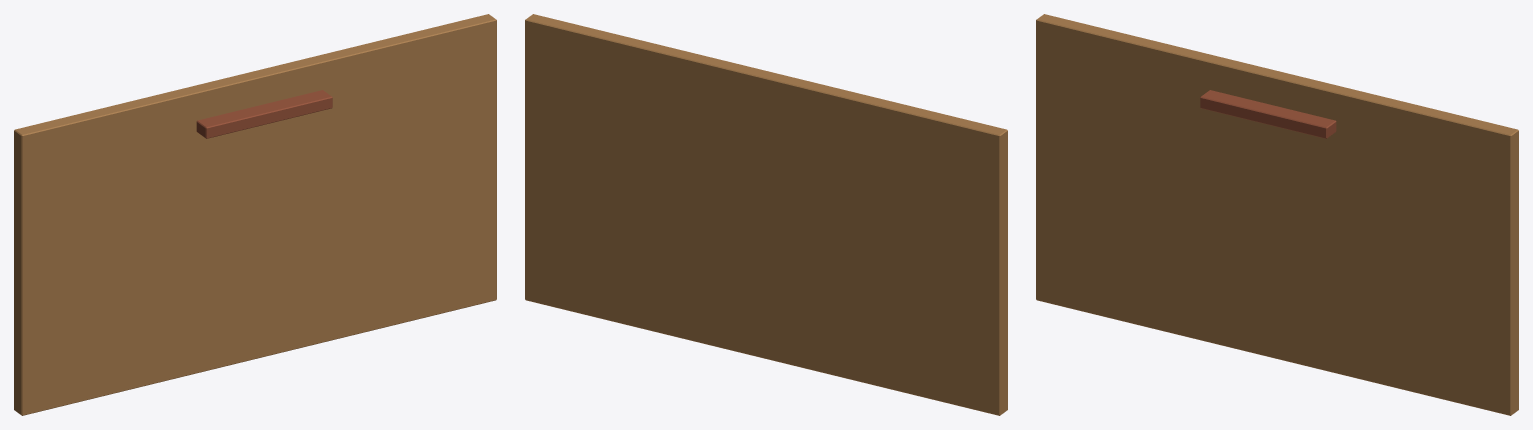
The model's file is media_bench_dropdown_flaps_right_flap.glb.
The picture shows the model from 3 angles, left to right: view 1: azimuth 30°, elevation 25°; view 2: azimuth 150°, elevation 25°; view 3: azimuth 330°, elevation 25°; orthographic projection.
Parts seen in each view (by area): view 1: media_bench_dropdown_flaps_right_flap.001; view 2: media_bench_dropdown_flaps_right_flap.001; view 3: media_bench_dropdown_flaps_right_flap.001.
Boxes of the visible parts, box(x1,y1,x2,y2) form: media_bench_dropdown_flaps_right_flap.001: box(14, 14, 496, 415); media_bench_dropdown_flaps_right_flap.001: box(525, 14, 1007, 415); media_bench_dropdown_flaps_right_flap.001: box(1036, 14, 1518, 415).
Bounding box in the file's own units: 0.5985 × 0.338 × 0.04.
